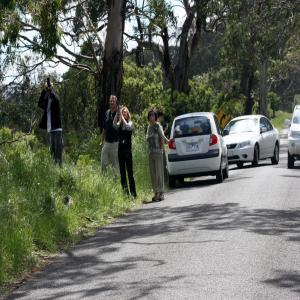Vehicle-registration-plate: (187, 146, 200, 153), (227, 152, 234, 158)
